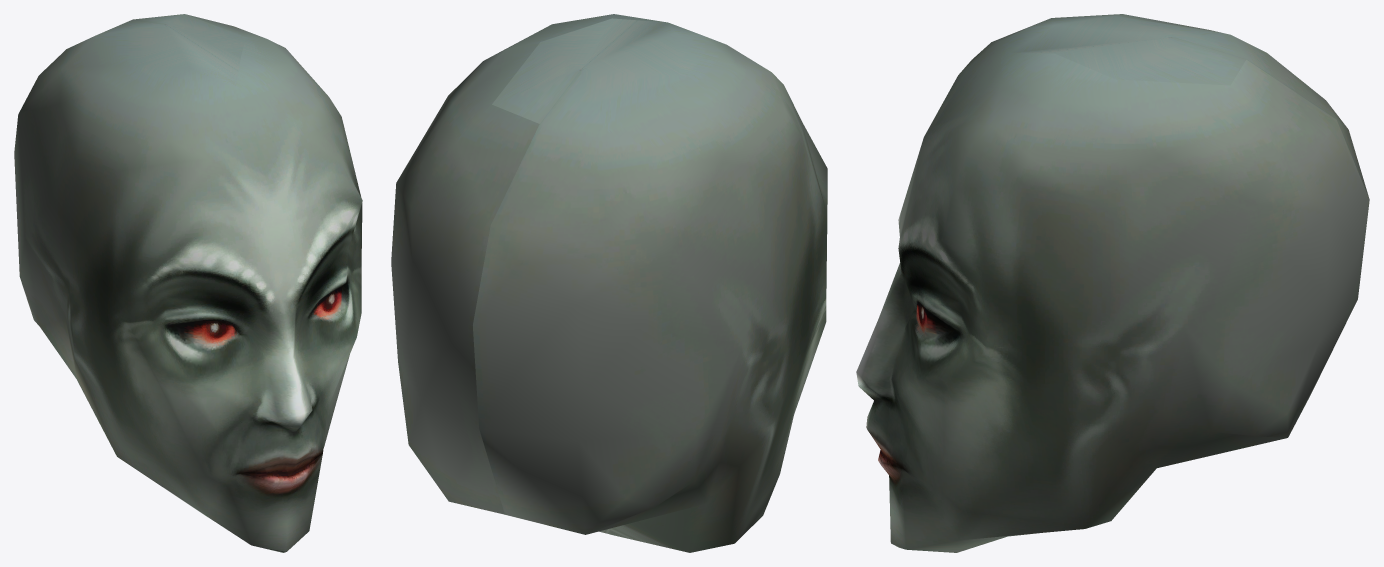
File: b_n_dark elf_f_head_02.glb
3 views of the same model, side by side, from view 1: azimuth 30°, elevation 25°; view 2: azimuth 150°, elevation 25°; view 3: azimuth 270°, elevation 25° (orthographic). The views are drawn at different scales.
Visible parts, largest first — view 1: Tri B_N_Dark Elf_F_Head_02; view 2: Tri B_N_Dark Elf_F_Head_02; view 3: Tri B_N_Dark Elf_F_Head_02.
Part boxes in pixels (x1,y1,x2,y2): Tri B_N_Dark Elf_F_Head_02: (14,14,362,552); Tri B_N_Dark Elf_F_Head_02: (391,14,827,552); Tri B_N_Dark Elf_F_Head_02: (856,14,1369,552).
Size of the model in its own units: 0.0969 by 0.1523 by 0.1389.
Materials: 1 (1 with a texture image).
